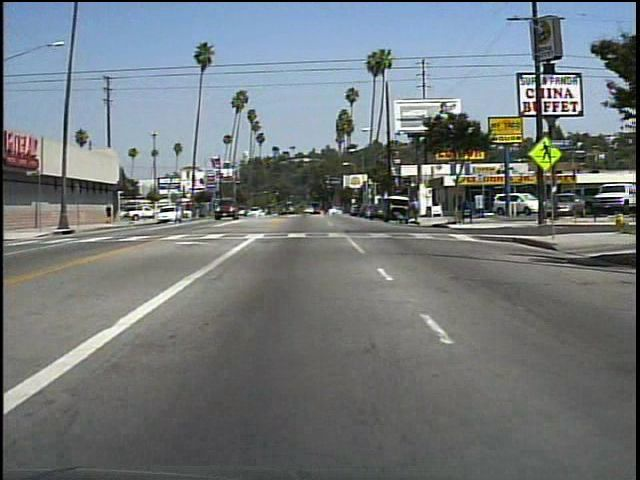person: (408, 195, 423, 226), (393, 210, 410, 228), (104, 199, 114, 224)
